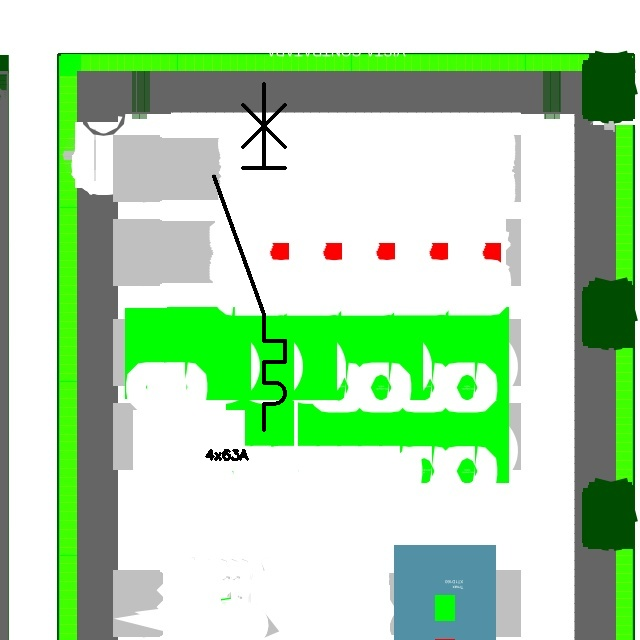interruptor_termomagnetico: (205, 75, 294, 439)
